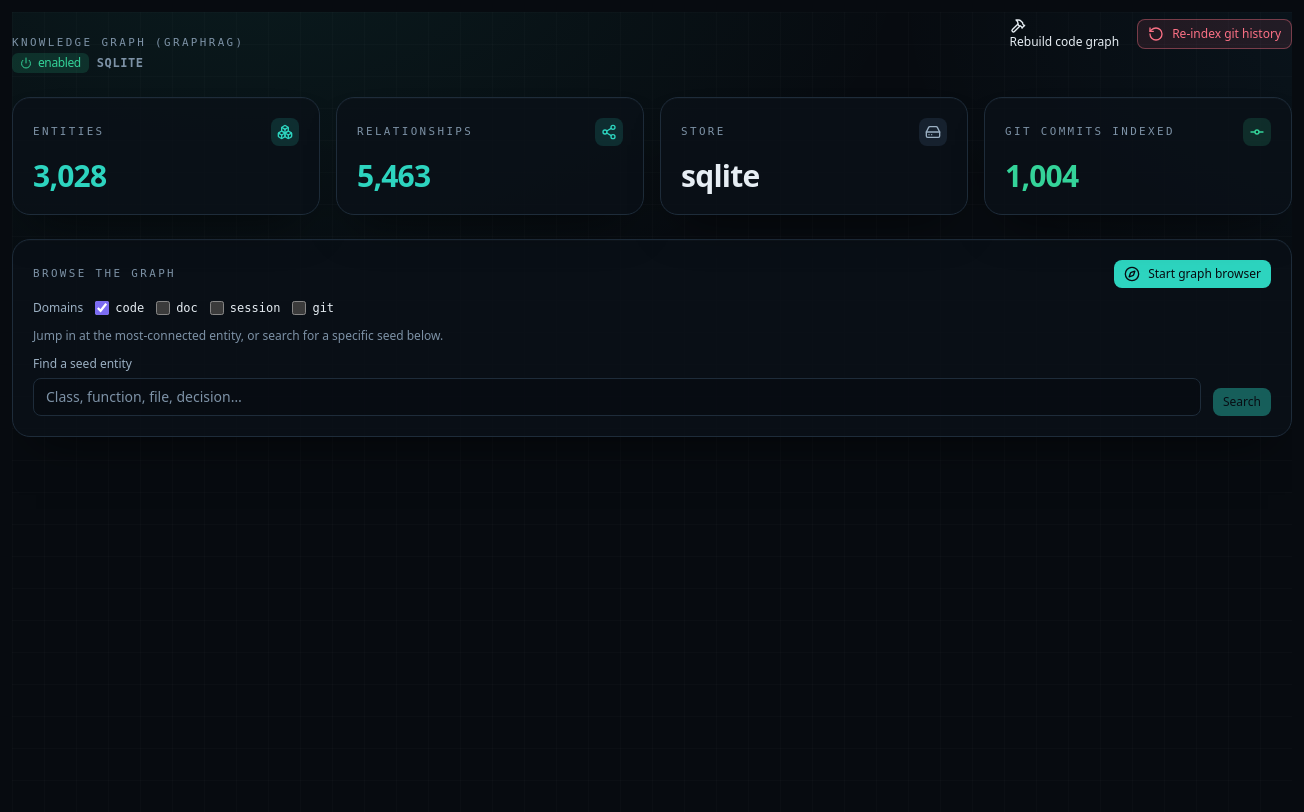
Test: graph browser › shows error message when searchGraphNodes rejects
Type "query" into the field with test id "input-graph-search" at (617, 397), box x1=33 y1=378 x2=1201 y2=416
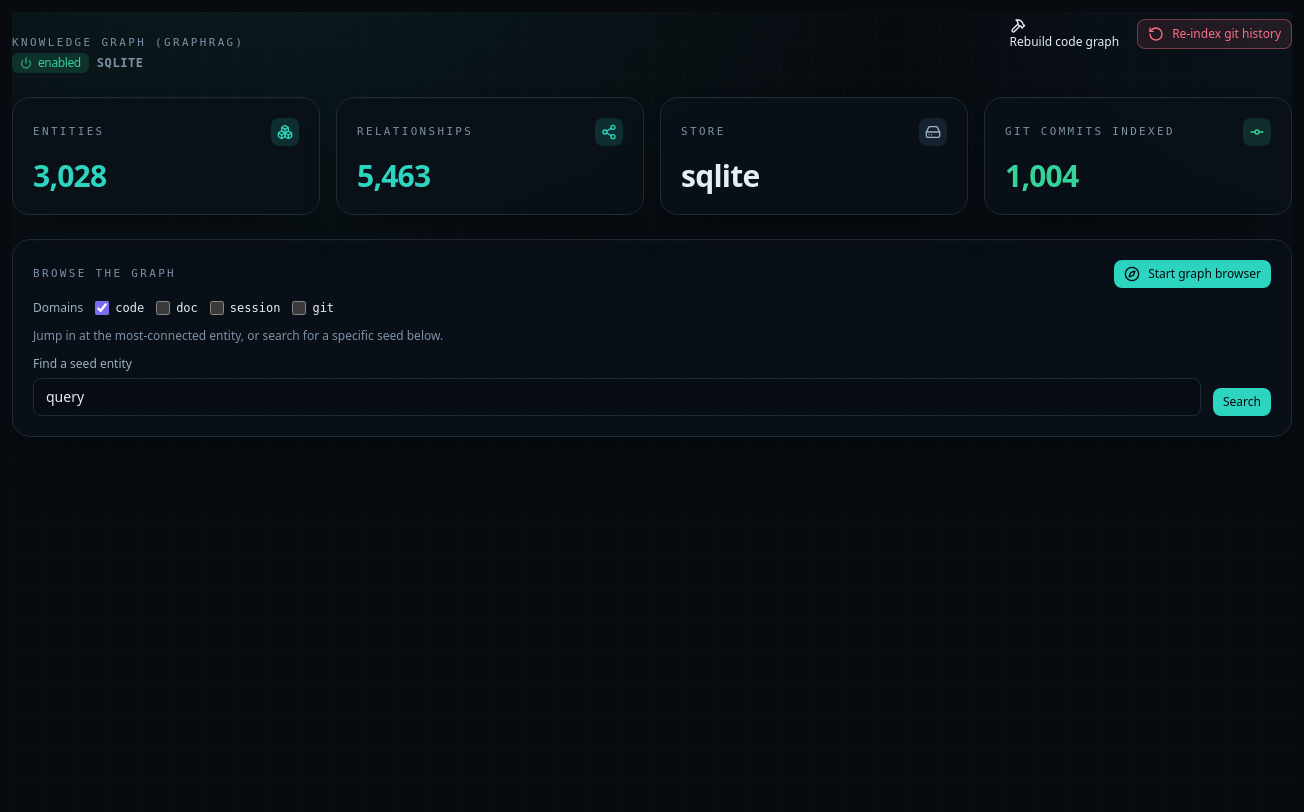
Click the button with test id "btn-graph-search" at (1242, 402), box x1=1213 y1=388 x2=1271 y2=416
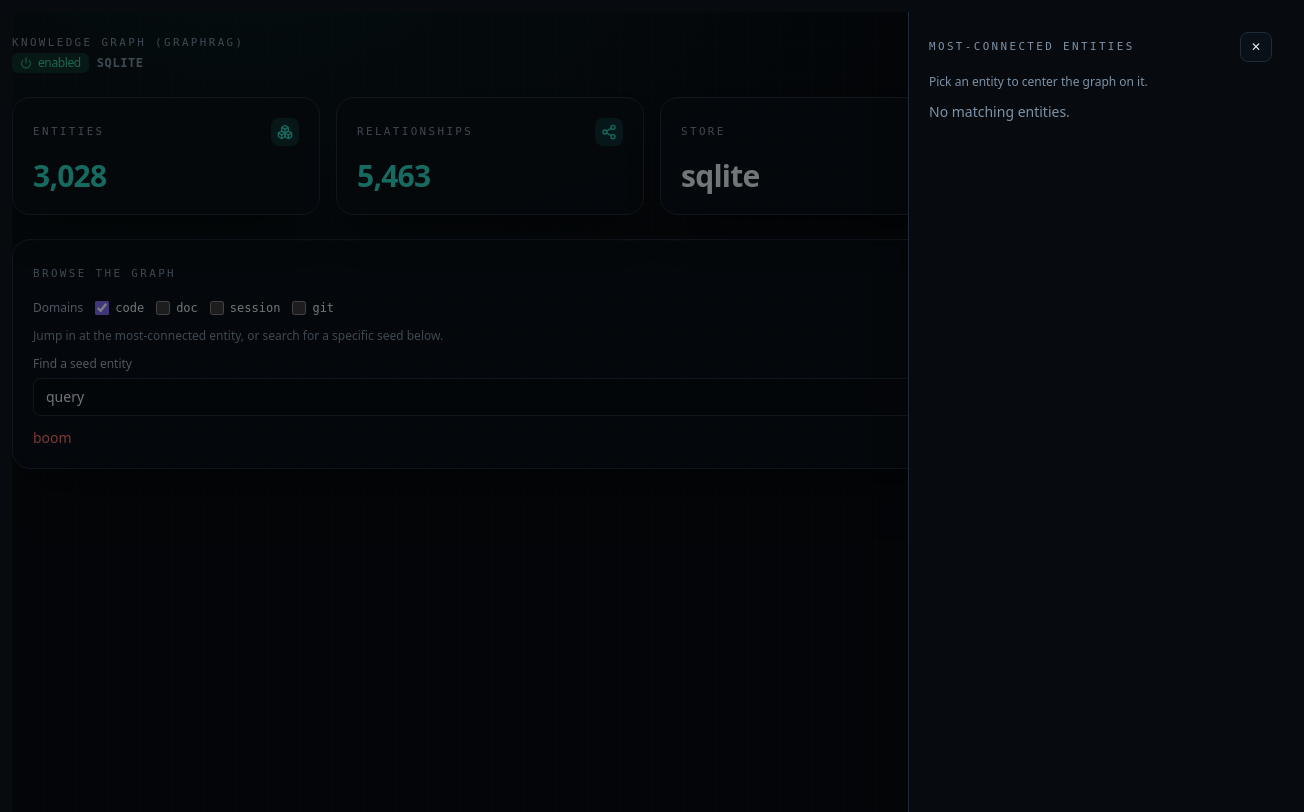
expect the text "boom" is shown: met, box x1=33 y1=428 x2=72 y2=447
